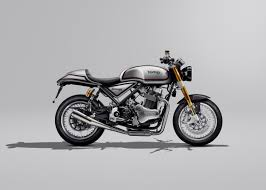motorcycle: (50, 49, 224, 146)
